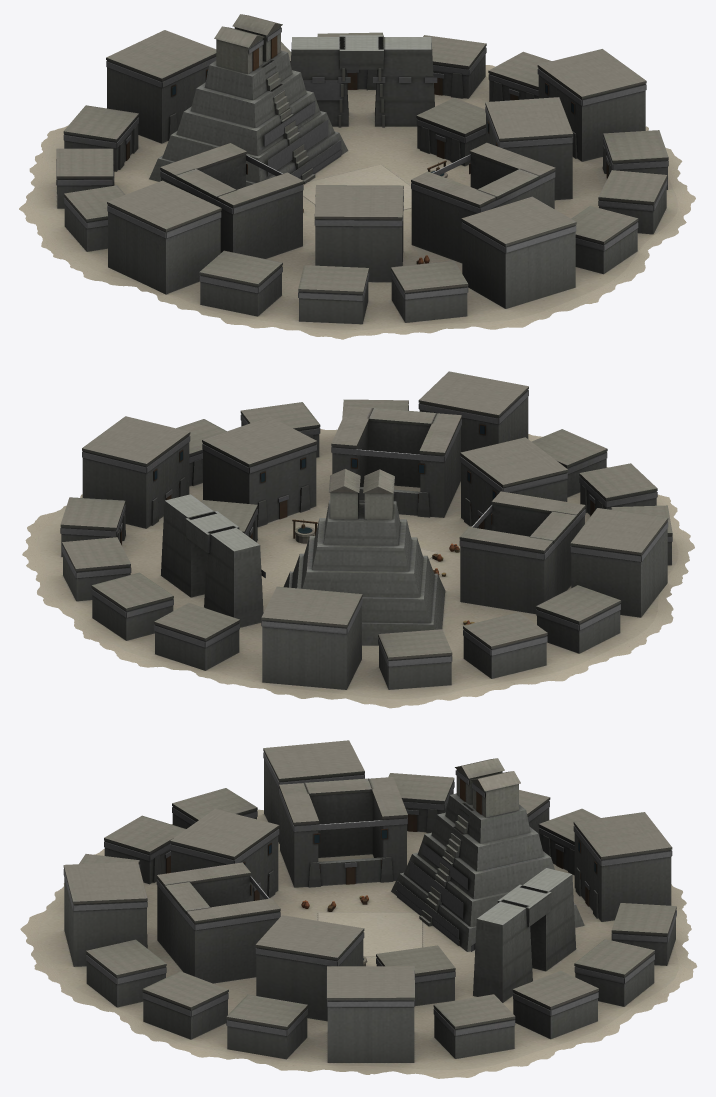
Rendered from kingdoms-town-big-a-americas.glb.
3 renders of one model, top to bottom at view 1: azimuth 30°, elevation 25°; view 2: azimuth 150°, elevation 25°; view 3: azimuth 270°, elevation 25°, orthographic.
Parts seen in each view (by area): view 1: LOD0; view 2: LOD0; view 3: LOD0.
Part boxes in pixels (x1,y1,x2,y2): LOD0: [19, 14, 695, 339]; LOD0: [22, 371, 694, 708]; LOD0: [20, 740, 697, 1078].
Size of what is drawn, in the model's own units: 8 by 1.81 by 7.95.
3 materials, 3 textured.
